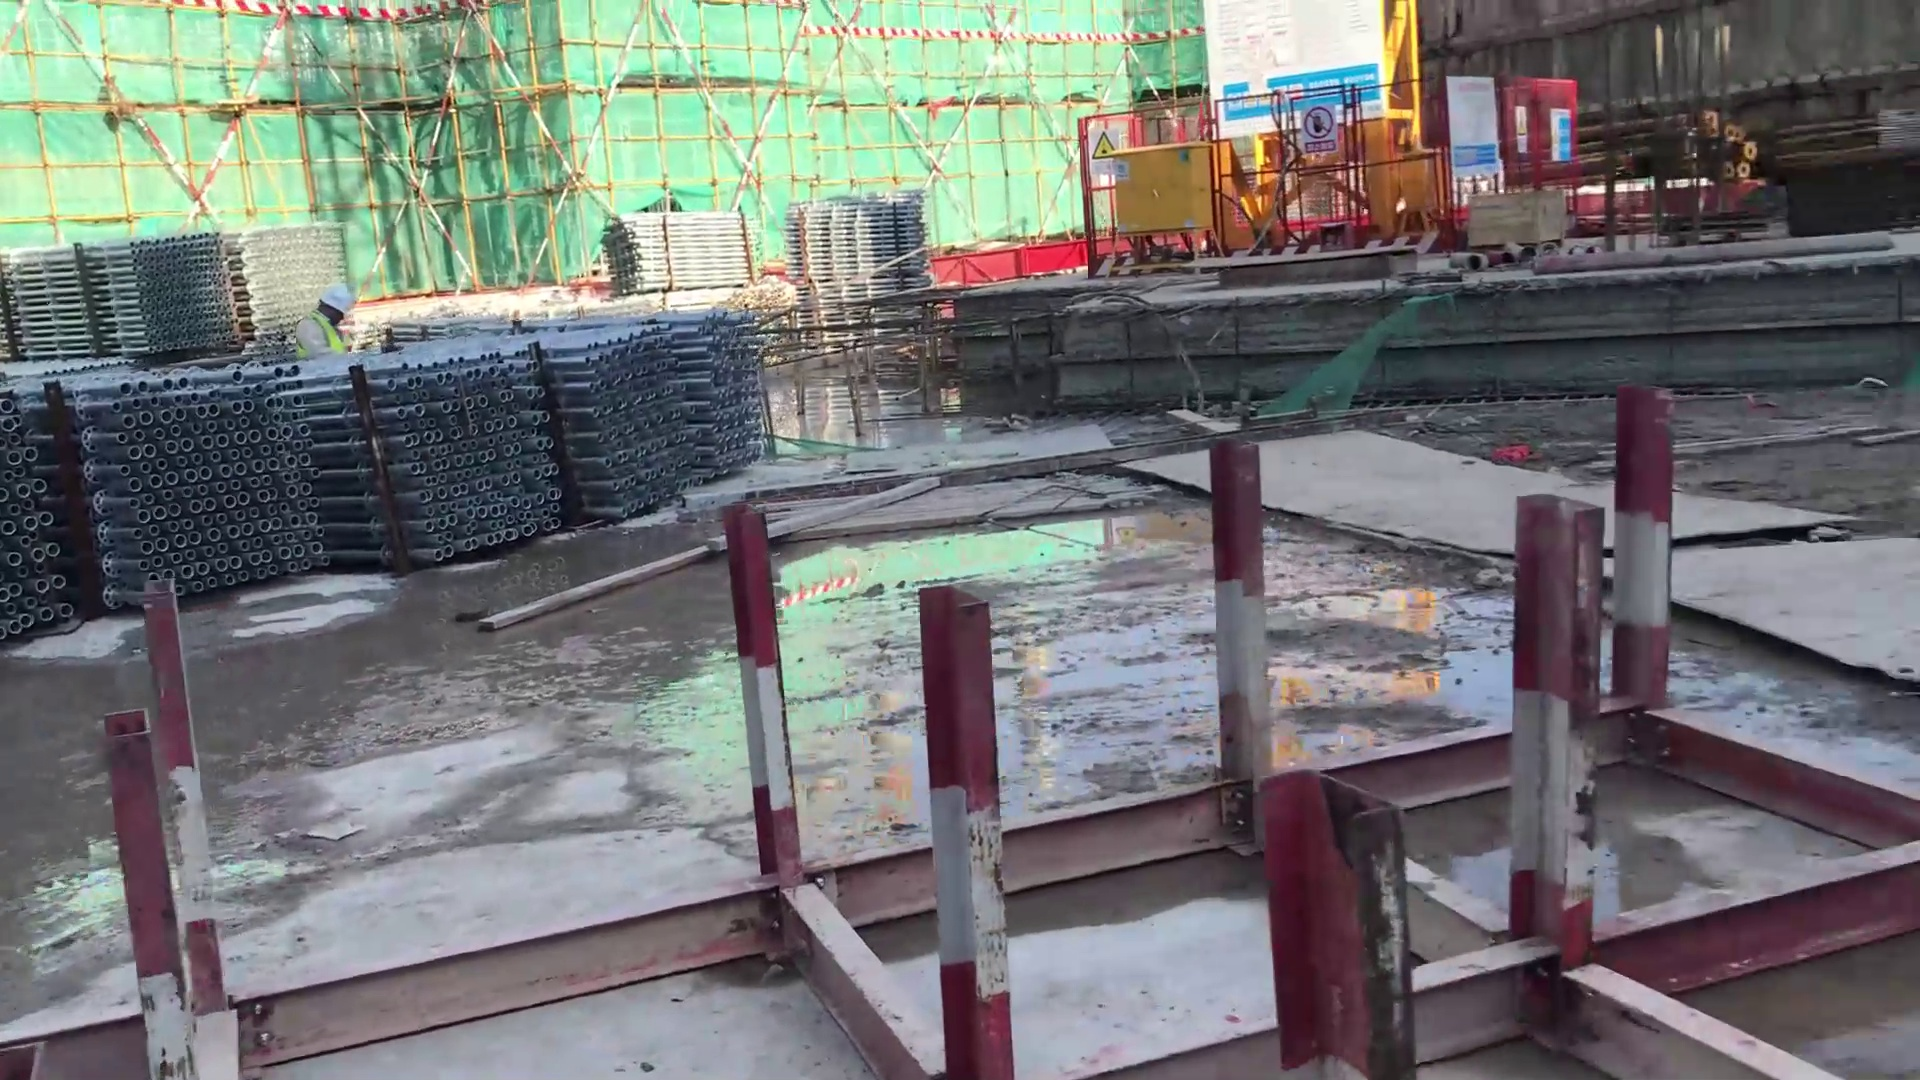scaffold: (1, 214, 808, 508)
